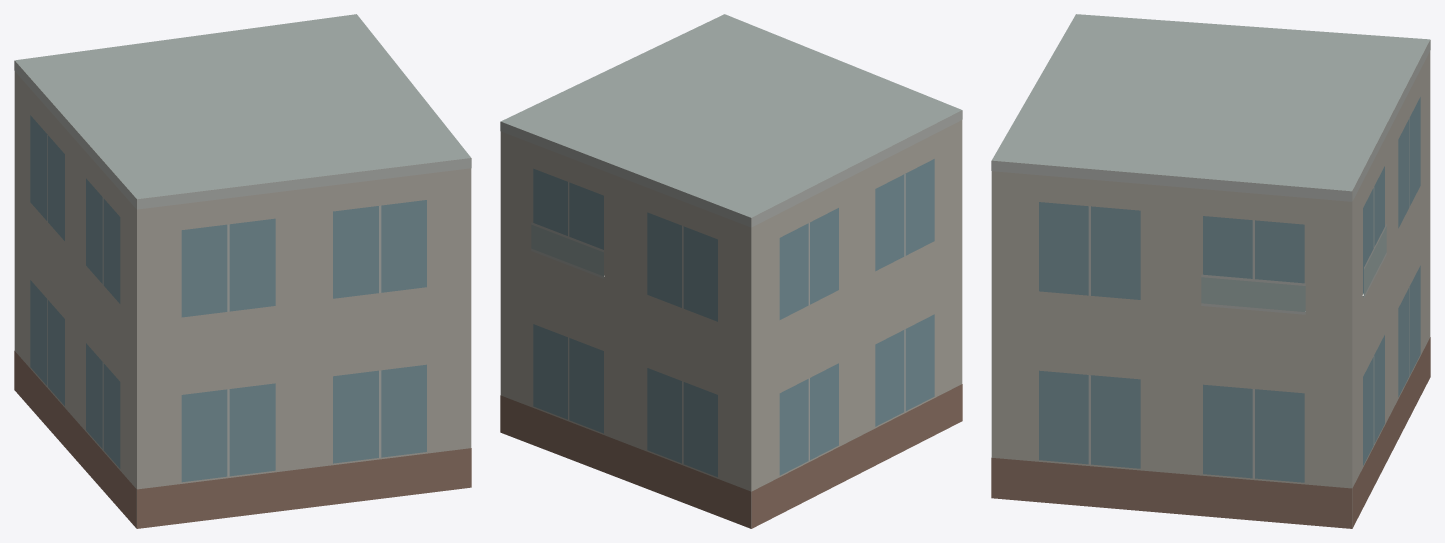
Rendered from survey-upis-32658823.glb.
The picture shows the model from 3 angles, left to right: view 1: azimuth 30°, elevation 25°; view 2: azimuth 150°, elevation 25°; view 3: azimuth 270°, elevation 25°; orthographic projection. The views are drawn at different scales.
Visible parts, largest first — view 1: survey-upis-32658823.tmp; view 2: survey-upis-32658823.tmp; view 3: survey-upis-32658823.tmp.
Part boxes in pixels (x1,y1,x2,y2): survey-upis-32658823.tmp: (14,14,471,528); survey-upis-32658823.tmp: (500,14,962,528); survey-upis-32658823.tmp: (991,14,1430,528).
Size of the model in its own units: 8.8 by 7.8 by 9.2.
